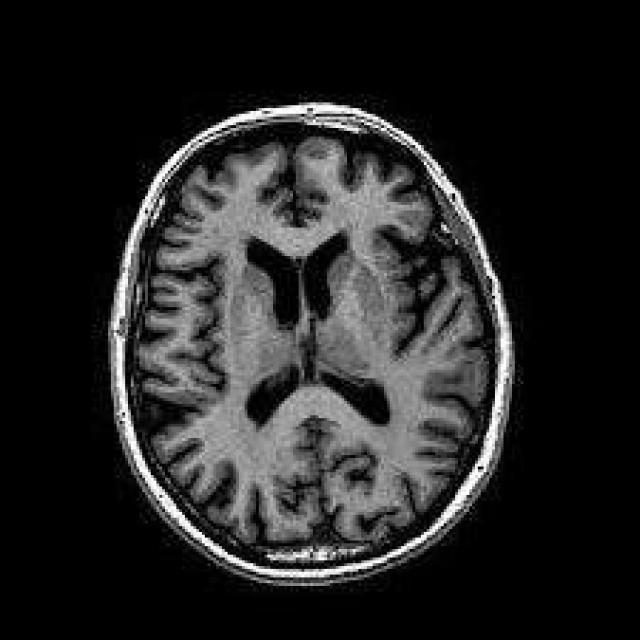notumor: (108, 102, 512, 583)
